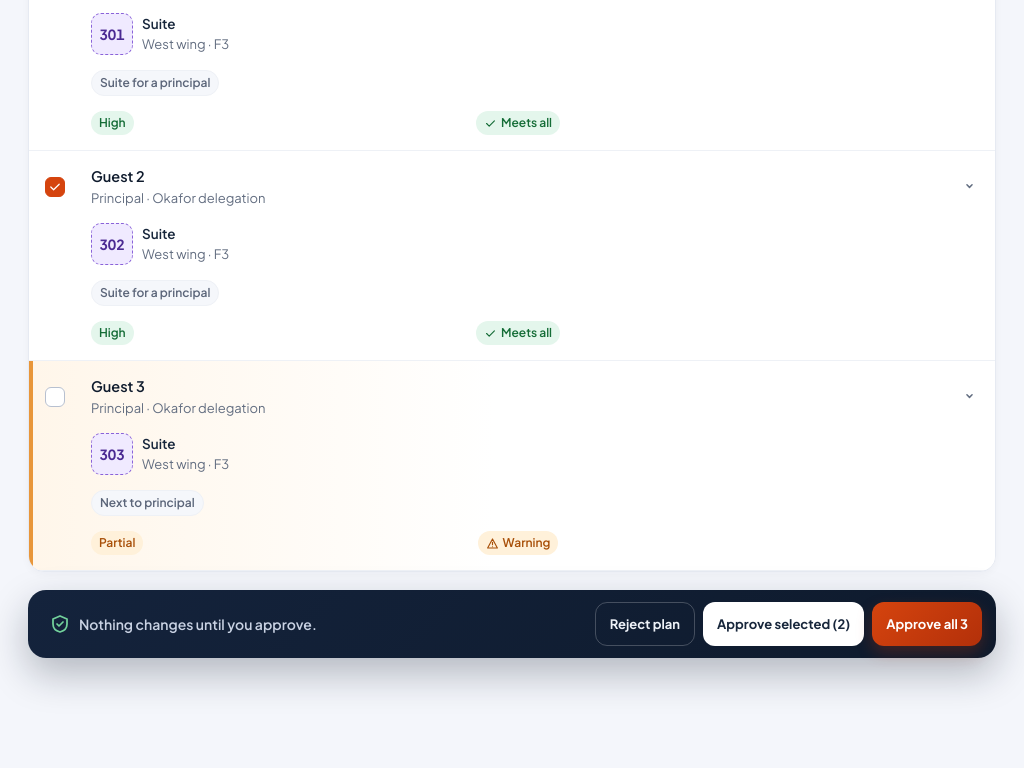
Test: PlanScreen › explains a line on demand
The width and height of the screenshot is (1024, 768).
(page scrolled)
Click the button named "Why room 303 for Guest 3": (967, 397) [955,385,979,409]
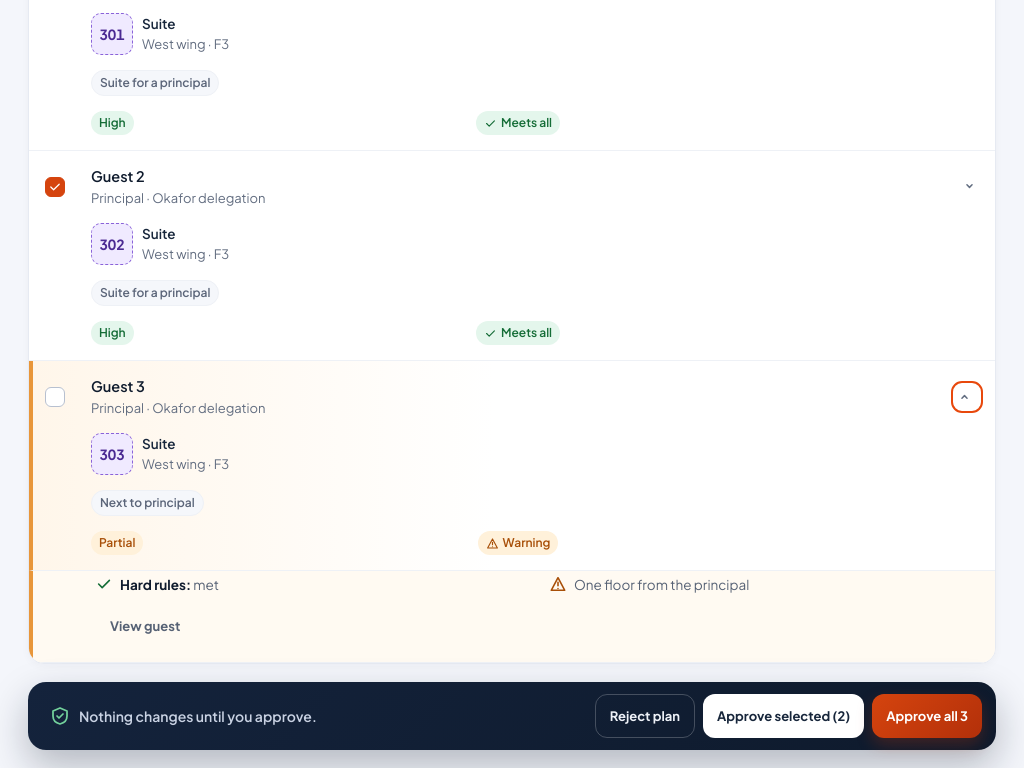
Expected: the text "One floor from the principal" is shown, [574,575,749,595]
